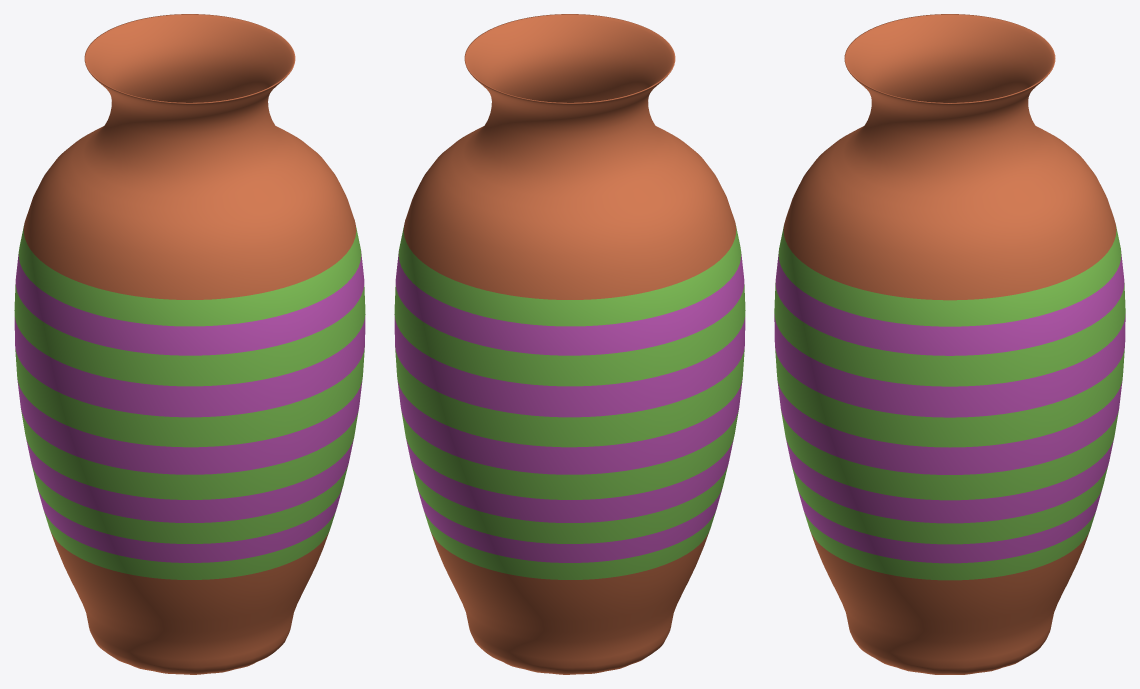
Rendered from vase.fbx.
The picture shows the model from 3 angles, left to right: view 1: azimuth 30°, elevation 25°; view 2: azimuth 150°, elevation 25°; view 3: azimuth 270°, elevation 25°; orthographic projection.
Visible parts, largest first — view 1: Circle; view 2: Circle; view 3: Circle.
Boxes of the visible parts, bbox=[...] form: Circle: bbox=[14, 14, 365, 674]; Circle: bbox=[394, 14, 745, 674]; Circle: bbox=[774, 14, 1125, 674].
Size of the model in its own units: 485 by 888 by 485.
